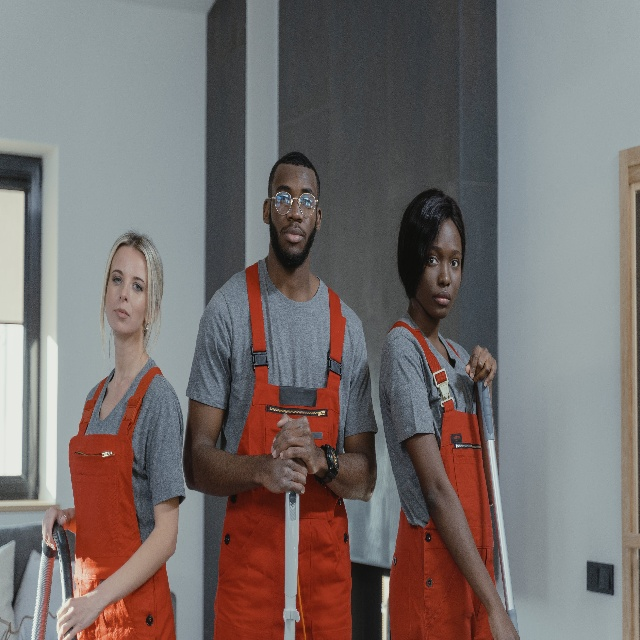Gafas: (268, 190, 318, 217)
Sin_guantes: (270, 412, 318, 475), (56, 590, 98, 639), (258, 452, 308, 493), (41, 505, 72, 550), (465, 345, 496, 388), (488, 601, 520, 640)
